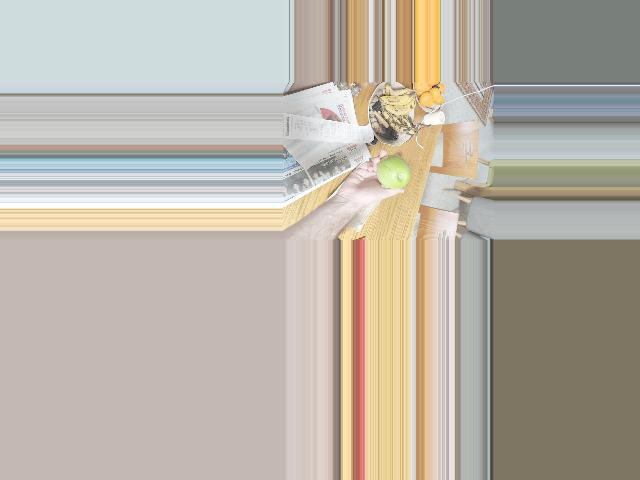apple: (377, 154, 413, 190)
